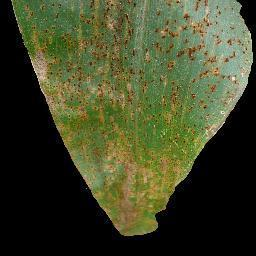Corn_Common_Rust: (11, 0, 256, 223)
